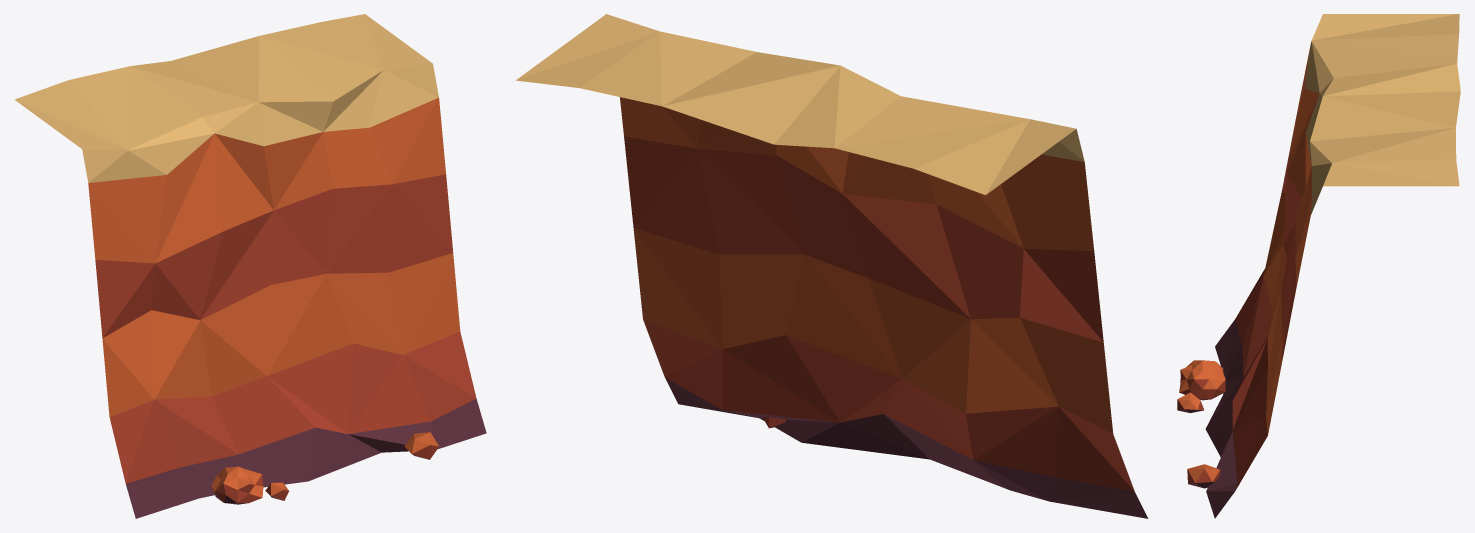
File: Mtn_Wall_A.fbx
The picture shows the model from 3 angles, left to right: view 1: azimuth 30°, elevation 25°; view 2: azimuth 150°, elevation 25°; view 3: azimuth 270°, elevation 25°; orthographic projection. The views are drawn at different scales.
Parts seen in each view (by area): view 1: Mtn_Wall_A; view 2: Mtn_Wall_A; view 3: Mtn_Wall_A.
Boxes of the visible parts, x1,y1,x2,y2 form: Mtn_Wall_A: (14,14,486,518); Mtn_Wall_A: (516,14,1148,518); Mtn_Wall_A: (1177,14,1460,518).
Bounding box in the file's own units: 20 × 18.35 × 13.91.
